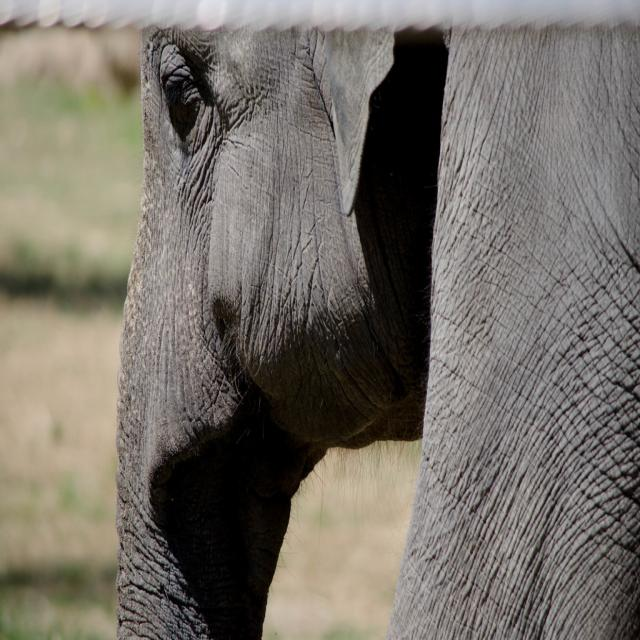Elephant: (115, 29, 640, 639)
